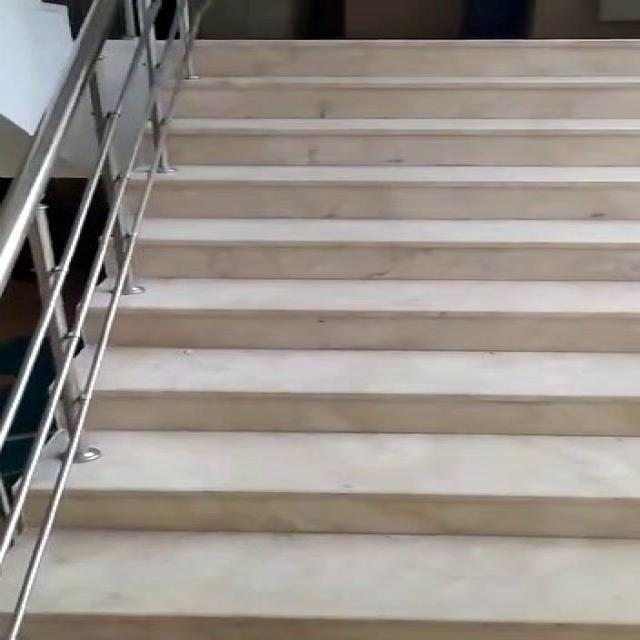stairs: (0, 36, 638, 638)
